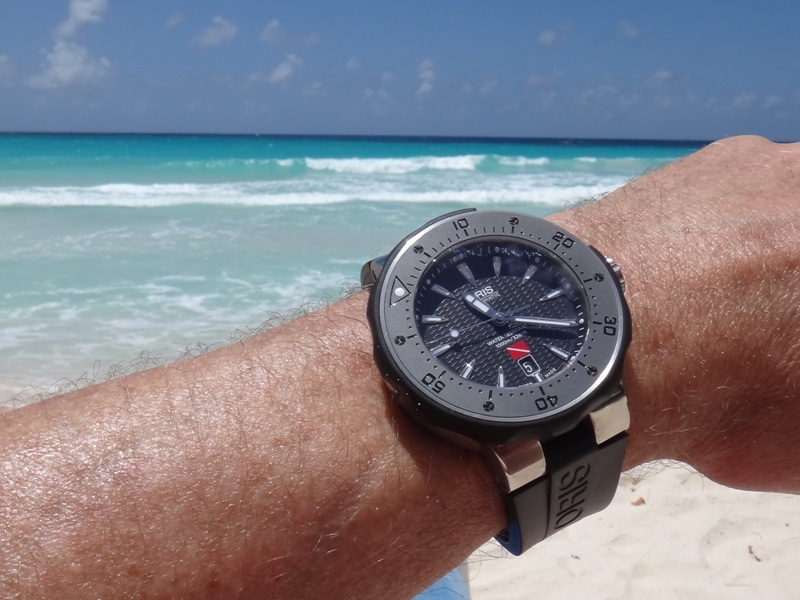clock: (378, 209, 623, 424)
